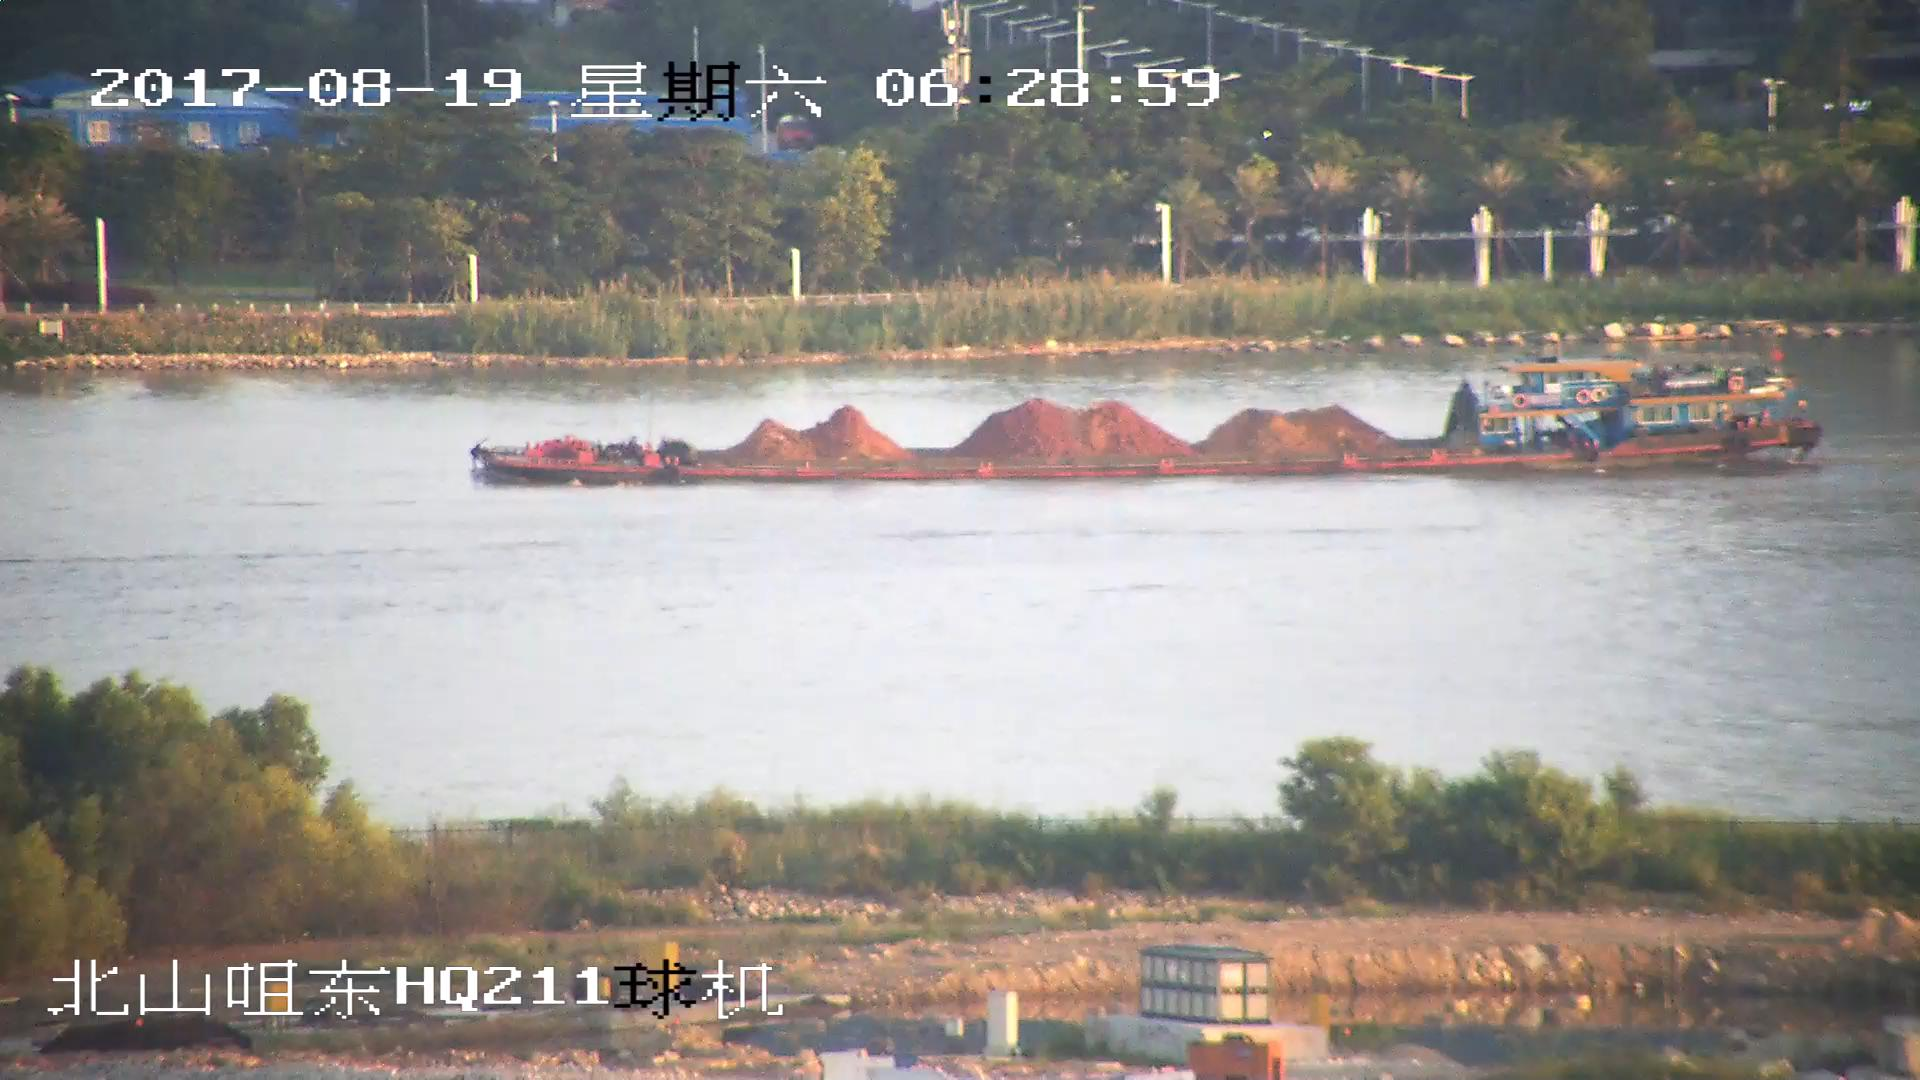ore carrier: (466, 347, 1827, 484)
